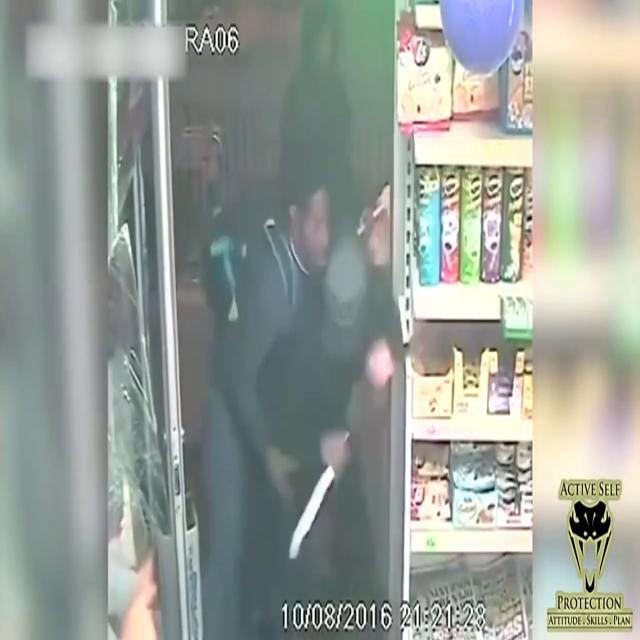Knife_Handle: (289, 426, 350, 556)
